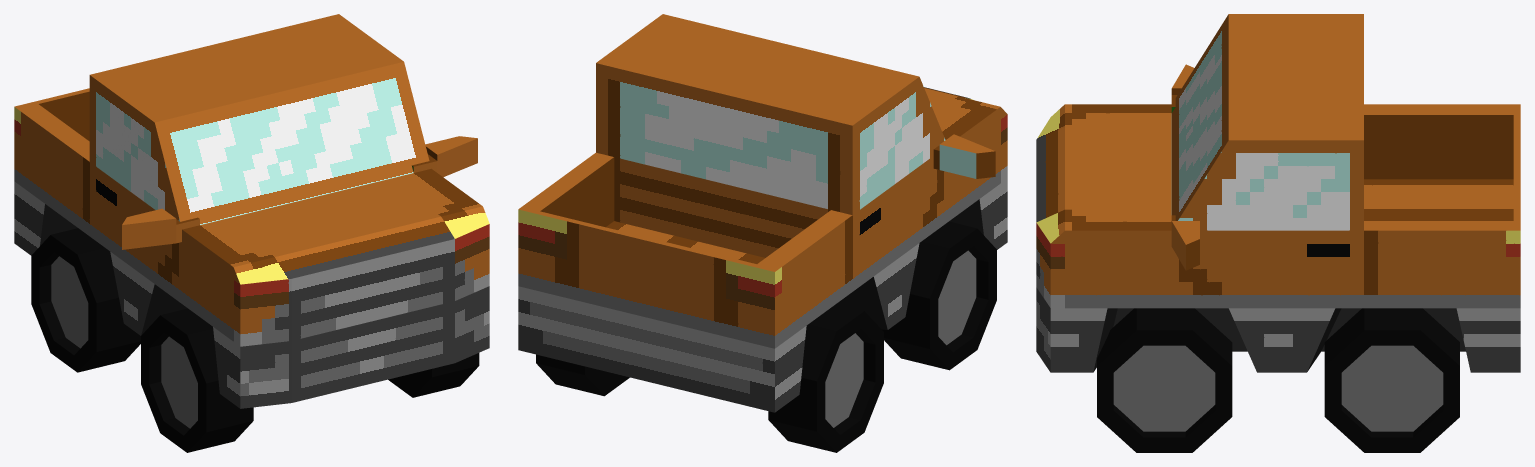
Rendered from Camio.glb.
3 renders of one model, left to right at view 1: azimuth 30°, elevation 25°; view 2: azimuth 150°, elevation 25°; view 3: azimuth 270°, elevation 25°, orthographic. The views are drawn at different scales.
Visible parts, largest first — view 1: Body, cylinder (×3), MirrorRight, MirrorLeft; view 2: Body, cylinder (×3), MirrorRight; view 3: Body, cylinder (×2), MirrorLeft.
Boxes of the visible parts, x1,y1,x2,y2 form: Body: [14, 14, 489, 408]; cylinder (×3): [31, 228, 479, 452]; MirrorRight: [122, 208, 199, 249]; MirrorLeft: [412, 136, 477, 177]; Body: [518, 14, 1007, 412]; cylinder (×3): [536, 221, 996, 452]; MirrorRight: [933, 134, 995, 178]; Body: [1036, 14, 1520, 372]; cylinder (×2): [1097, 308, 1459, 452]; MirrorLeft: [1171, 215, 1199, 270].
Bounding box in the file's own units: 1.88 × 1.48 × 2.12.
1 material, 1 textured.
